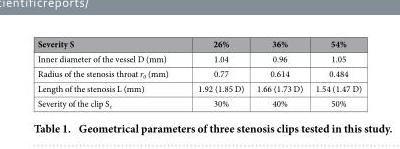table: (36, 37, 361, 109)
table column: (36, 37, 182, 109), (182, 37, 249, 109), (249, 37, 308, 109), (308, 37, 361, 109)
table column header: (36, 37, 361, 50)
table row: (36, 65, 361, 81), (36, 50, 361, 65), (36, 81, 361, 95), (36, 95, 361, 109), (36, 37, 361, 50)
